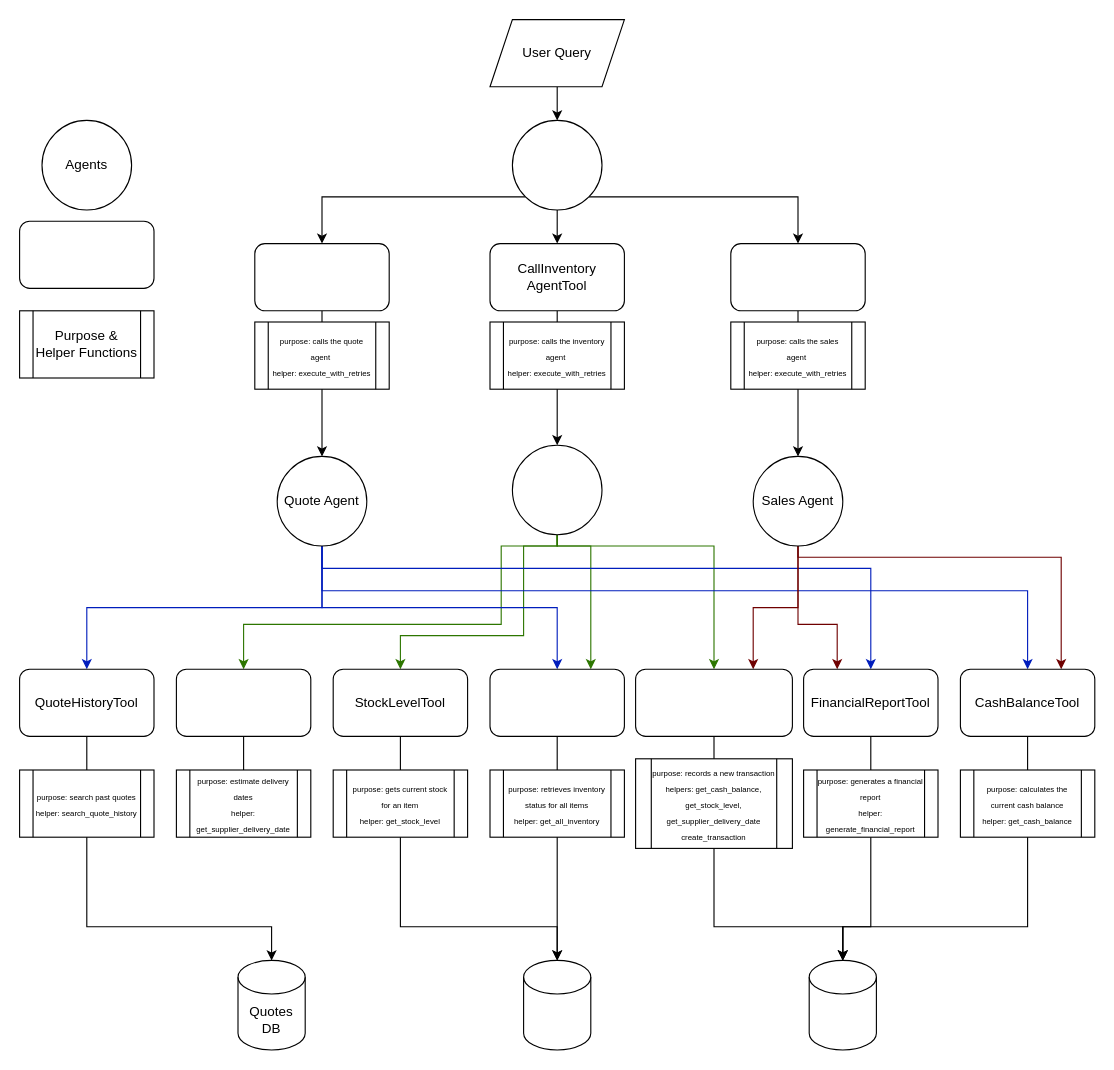
This 1114x1070 diagram has some shape labels left out. Each missing label, with the centre of its shape:
"CallQuoteAgentTool" goes at (x=321, y=276).
"CallSalesAgentTool" goes at (x=797, y=276).
"CreateTransaction Tool" goes at (x=713, y=702).
"Inventory Agent" goes at (x=556, y=489).
"Inventory DB" goes at (x=556, y=1004).
"InventoryStatusTool" goes at (x=556, y=702).
"Orchestrator Agent" goes at (x=556, y=164).
"SupplierDeliveryTool" goes at (x=243, y=702).
"Tools" goes at (x=86, y=254).
"Transactions DB" goes at (x=842, y=1004).
